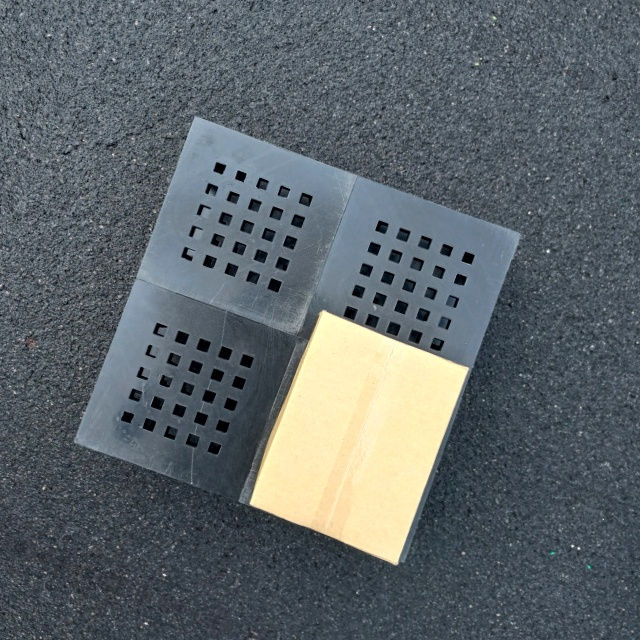box: (243, 306, 474, 570)
pallet: (64, 112, 528, 575)
